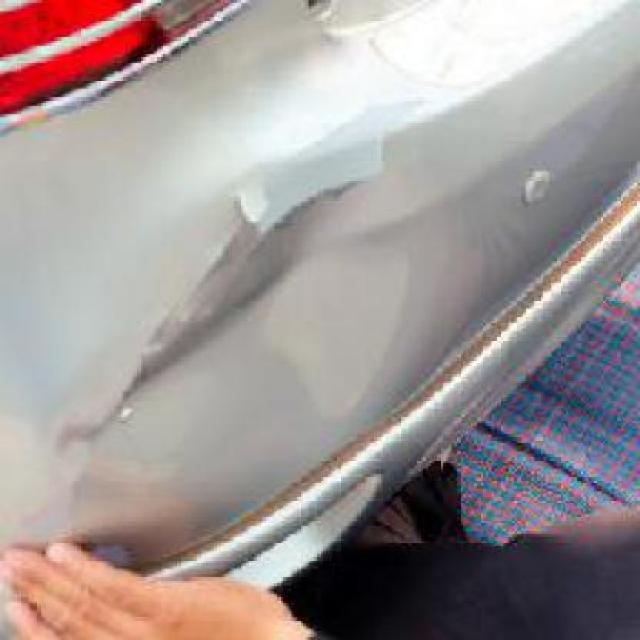dent-or-scratch: (100, 138, 414, 460)
